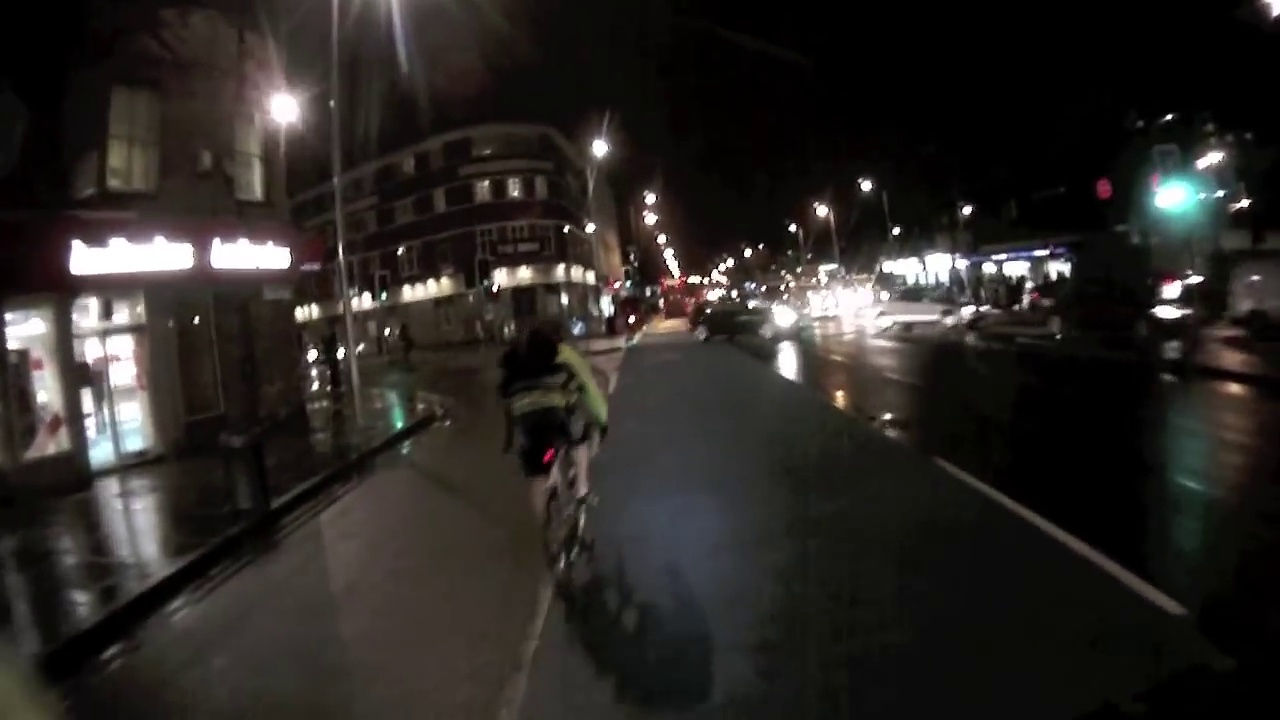cyclist_back: (507, 312, 613, 589)
